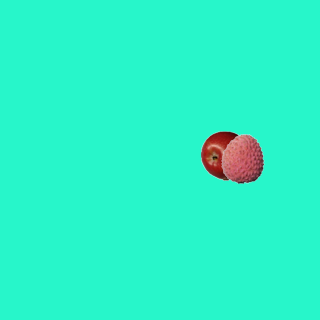Apple Braeburn: (200, 130, 250, 180)
Lychee: (217, 133, 267, 183)
